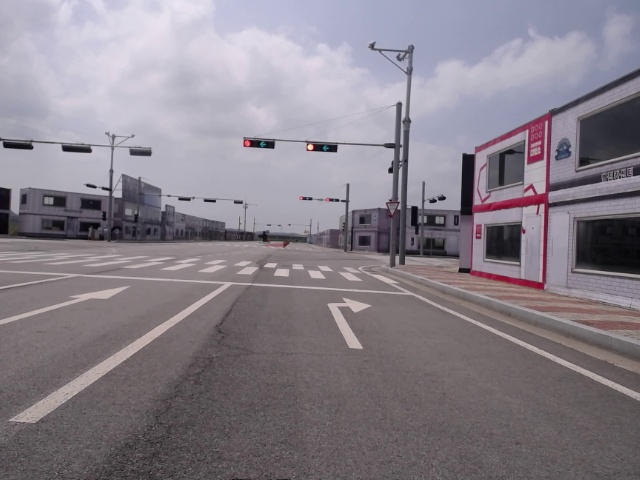left_green_4: (243, 137, 275, 149), (307, 143, 338, 154)
